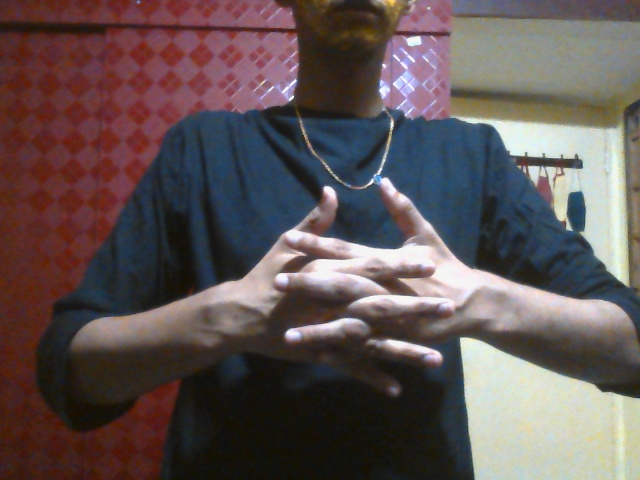W: (236, 177, 467, 423)
